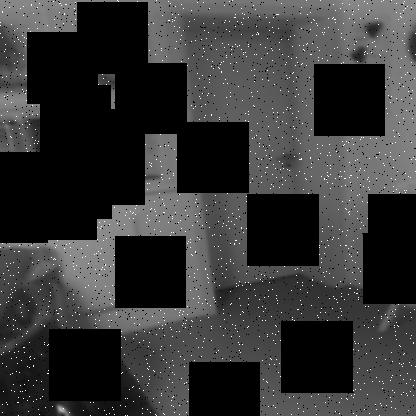Porte: (167, 7, 346, 316)
